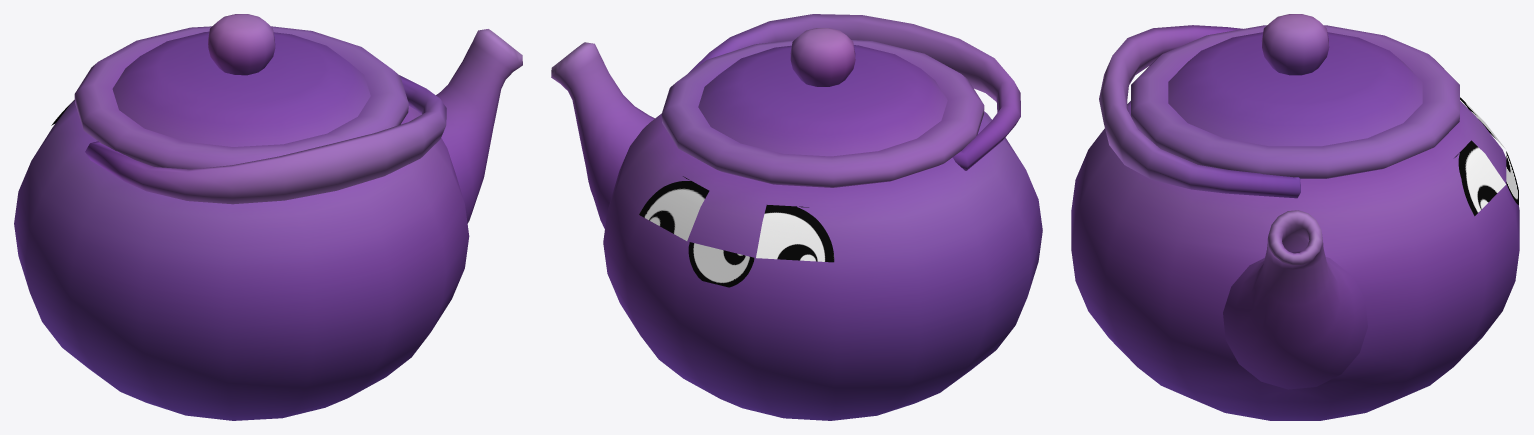
Rendered from teapot_purple_smile.fbx.
3 views of the same model, side by side, from view 1: azimuth 30°, elevation 25°; view 2: azimuth 150°, elevation 25°; view 3: azimuth 270°, elevation 25° (orthographic). The views are drawn at different scales.
Visible parts, largest first — view 1: teapot_purple; view 2: teapot_purple; view 3: teapot_purple.
Boxes of the visible parts, x1,y1,x2,y2 form: teapot_purple: (14, 14, 522, 420); teapot_purple: (551, 14, 1042, 420); teapot_purple: (1071, 14, 1519, 420).
Size of the model in its own units: 137 by 113 by 101.
